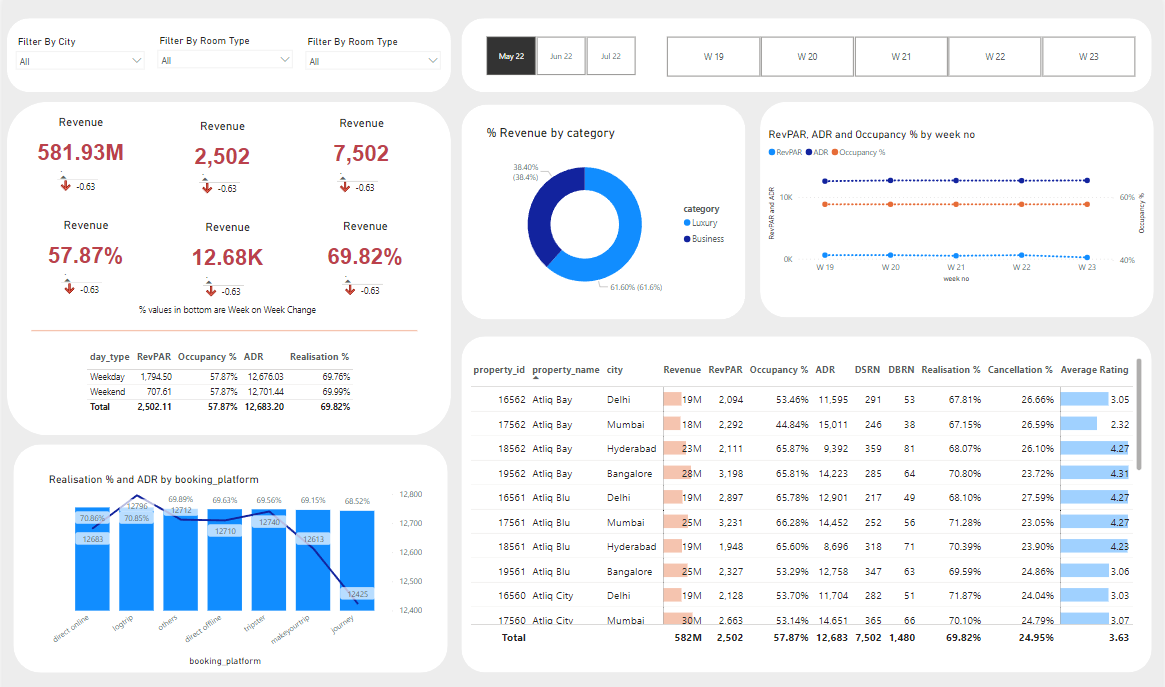

This screenshot's page, from the dashboard's own definition file:
{"tool":"powerbi","page":{"name":"Hospitality Analysis","canvas":[1800,1100],"ordinal":0},"visuals":[{"type":"shape","box":[1175,165,611.7,335],"z":0},{"type":"shape","box":[712.5,530,1072.5,522.5],"z":1000},{"type":"shape","box":[711.4,170,441.4,334.3],"z":2000},{"type":"shape","box":[15,697.5,675,355],"z":3000},{"type":"shape","box":[6,166,690,518],"z":4000},{"type":"shape","box":[712.5,35,1072.5,115],"z":5000},{"type":"shape","box":[5,35,690,115],"z":6000},{"type":"tableEx","fields":{"Values":["dim_hotels.property_id","dim_hotels.property_name","dim_hotels.city","Key Measureee.Revenue","Key Measureee.RevPAR","Key Measureee.Occupancy %","Key Measureee.ADR","Key Measureee.DSRN","Key Measureee.DBRN","Key Measureee.Realisation %","Key Measureee.Cancellation %","Key Measureee.Average Rating"]},"box":[720,564,1054,456],"z":7000},{"type":"slicer","fields":{"Values":["dim_hotels.city"]},"box":[11,58.6,220,68.6],"z":8000},{"type":"slicer","fields":{"Values":["dim_rooms.room_class"]},"box":[231,55.7,230,71.4],"z":9000},{"type":"slicer","fields":{"Values":["dim_date.mmm yy"]},"box":[726.7,58.6,280,72.9],"z":10000},{"type":"slicer","fields":{"Values":["dim_date.week no"]},"box":[1006.7,58.3,776.7,75],"z":11000},{"type":"tableEx","fields":{"Values":["Key Measureee.Revenue WoW change %"]},"box":[77.5,256.1,88.8,62.5],"z":12000},{"type":"card","title":"Revenue","fields":{"Values":["Key Measureee.Revenue"]},"box":[36.5,186.7,170,92.9],"z":13000},{"type":"donutChart","title":"% Revenue by category","fields":{"Category":["dim_hotels.category"],"Y":["Key Measureee.Revenue"]},"box":[745,202.5,390,287.5],"z":14000},{"type":"slicer","fields":{"Values":["dim_rooms.room_class"]},"box":[461,58.6,230,71.4],"z":15000},{"type":"tableEx","fields":{"Values":["Key Measureee.Revenue WoW change %"]},"box":[297.1,261,88.8,62.5],"z":16000},{"type":"card","title":"Revenue","fields":{"Values":["Key Measureee.RevPAR"]},"box":[256,191.5,170,92.9],"z":17000},{"type":"tableEx","fields":{"Values":["Key Measureee.Revenue WoW change %"]},"box":[512.3,258.2,88.8,62.5],"z":18000},{"type":"card","title":"Revenue","fields":{"Values":["Key Measureee.DSRN"]},"box":[471.3,188.7,170,92.9],"z":19000},{"type":"tableEx","fields":{"Values":["Key Measureee.Revenue WoW change %"]},"box":[85,415,88.8,62.5],"z":20000},{"type":"card","title":"Revenue","fields":{"Values":["Key Measureee.Occupancy %"]},"box":[43.9,345.5,170,92.9],"z":21000},{"type":"tableEx","fields":{"Values":["Key Measureee.Revenue WoW change %"]},"box":[304.5,419.9,88.8,62.5],"z":22000},{"type":"card","title":"Revenue","fields":{"Values":["Key Measureee.ADR"]},"box":[263.4,350.4,170,92.9],"z":23000},{"type":"tableEx","fields":{"Values":["Key Measureee.Revenue WoW change %"]},"box":[519.8,417.1,88.8,62.5],"z":24000},{"type":"card","title":"Revenue","fields":{"Values":["Key Measureee.Realisation %"]},"box":[478.7,347.6,170,92.9],"z":25000},{"type":"shape","box":[44.8,514.7,600,14.7],"z":26000},{"type":"textbox","box":[206.1,473.7,308.3,33.3],"z":27000},{"type":"tableEx","fields":{"Values":["dim_date.day_type","Key Measureee.RevPAR","Key Measureee.Occupancy %","Key Measureee.ADR","Key Measureee.Realisation %"]},"box":[123.5,543.5,433.3,113.3],"z":28000},{"type":"lineStackedColumnComboChart","fields":{"Category":["fact_bookings.booking_platform"],"Y":["Key Measureee.Realisation %"],"Y2":["Key Measureee.ADR"]},"box":[65,742.5,590,305],"z":29000},{"type":"lineChart","fields":{"Category":["dim_date.date.Variation.Date Hierarchy.Month","dim_date.week no"],"Y":["Key Measureee.RevPAR","Key Measureee.ADR"],"Y2":["Key Measureee.Occupancy %"]},"box":[1183.3,205,596.7,246.7],"z":30000}]}

Visuals, with their boxes on the page's 1800x1100 design canvas (x1, y1, x2, y2). These are canvas units, not pixel positions in the 1165x687 screenshot, which may show the page scaled, cropped or inside an application window:
shape: (left=1175, top=165, right=1787, bottom=500)
shape: (left=712, top=530, right=1785, bottom=1052)
shape: (left=711, top=170, right=1153, bottom=504)
shape: (left=15, top=698, right=690, bottom=1052)
shape: (left=6, top=166, right=696, bottom=684)
shape: (left=712, top=35, right=1785, bottom=150)
shape: (left=5, top=35, right=695, bottom=150)
tableEx - dim_hotels.property_id x dim_hotels.property_name: (left=720, top=564, right=1774, bottom=1020)
slicer - dim_hotels.city: (left=11, top=59, right=231, bottom=127)
slicer - dim_rooms.room_class: (left=231, top=56, right=461, bottom=127)
slicer - dim_date.mmm yy: (left=727, top=59, right=1007, bottom=132)
slicer - dim_date.week no: (left=1007, top=58, right=1783, bottom=133)
tableEx - Key Measureee.Revenue WoW change %: (left=78, top=256, right=166, bottom=319)
"Revenue" card: (left=36, top=187, right=206, bottom=280)
"% Revenue by category" donutChart: (left=745, top=202, right=1135, bottom=490)
slicer - dim_rooms.room_class: (left=461, top=59, right=691, bottom=130)
tableEx - Key Measureee.Revenue WoW change %: (left=297, top=261, right=386, bottom=324)
"Revenue" card: (left=256, top=192, right=426, bottom=284)
tableEx - Key Measureee.Revenue WoW change %: (left=512, top=258, right=601, bottom=321)
"Revenue" card: (left=471, top=189, right=641, bottom=282)
tableEx - Key Measureee.Revenue WoW change %: (left=85, top=415, right=174, bottom=478)
"Revenue" card: (left=44, top=346, right=214, bottom=438)
tableEx - Key Measureee.Revenue WoW change %: (left=304, top=420, right=393, bottom=482)
"Revenue" card: (left=263, top=350, right=433, bottom=443)
tableEx - Key Measureee.Revenue WoW change %: (left=520, top=417, right=609, bottom=480)
"Revenue" card: (left=479, top=348, right=649, bottom=440)
shape: (left=45, top=515, right=645, bottom=529)
textbox: (left=206, top=474, right=514, bottom=507)
tableEx - dim_date.day_type x Key Measureee.RevPAR: (left=124, top=544, right=557, bottom=657)
lineStackedColumnComboChart - fact_bookings.booking_platform x Key Measureee.Realisation %: (left=65, top=742, right=655, bottom=1048)
lineChart - dim_date.date.Variation.Date Hierarchy.Month x dim_date.week no: (left=1183, top=205, right=1780, bottom=452)
